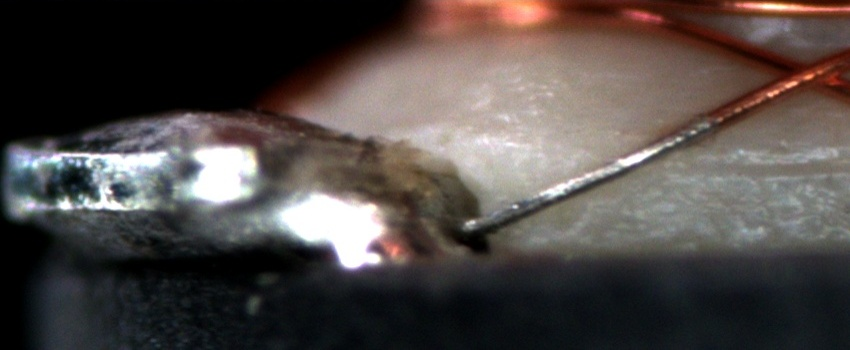CL: (760, 48, 840, 98)
DL: (671, 138, 850, 197)
TS: (453, 114, 713, 236)
